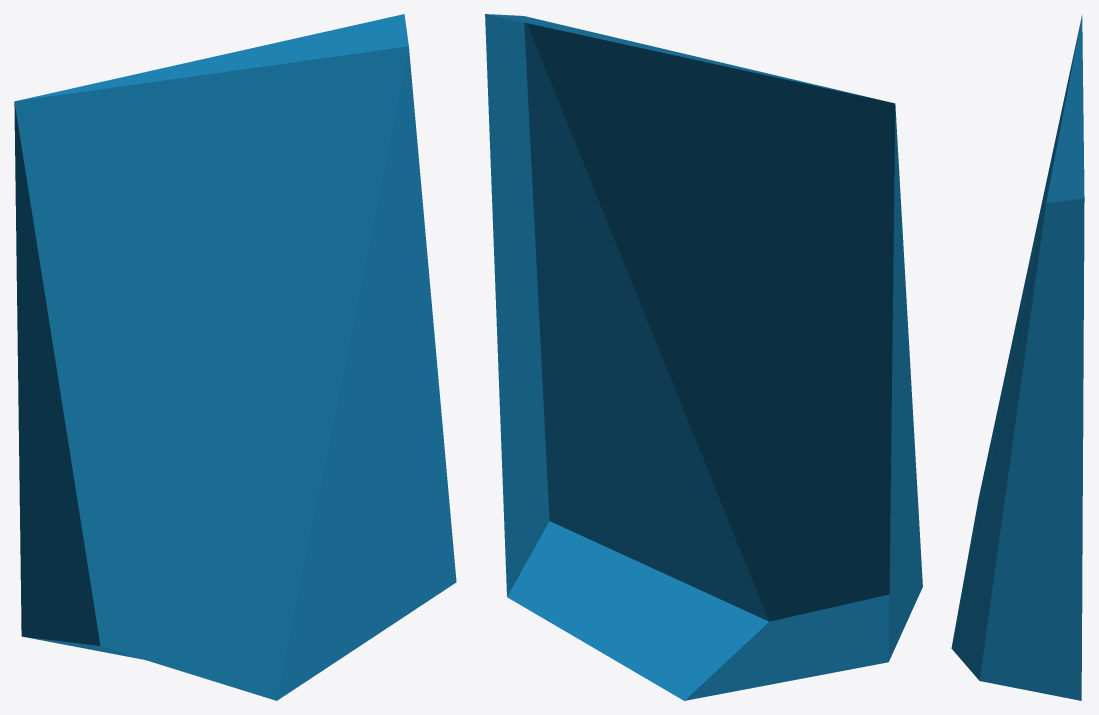
Rendered from Teja2Pivoteada.fbx.
3 renders of one model, left to right at view 1: azimuth 30°, elevation 25°; view 2: azimuth 150°, elevation 25°; view 3: azimuth 270°, elevation 25°, orthographic. The views are drawn at different scales.
Visible parts, largest first — view 1: Teja2_LOD1; view 2: Teja2_LOD1; view 3: Teja2_LOD1.
Part boxes in pixels (left/top/right/bottom): Teja2_LOD1: left=14, top=14, right=456, bottom=700; Teja2_LOD1: left=485, top=14, right=922, bottom=700; Teja2_LOD1: left=951, top=15, right=1084, bottom=700.
Bounding box in the file's own units: 19.01 × 90.33 × 59.54.
